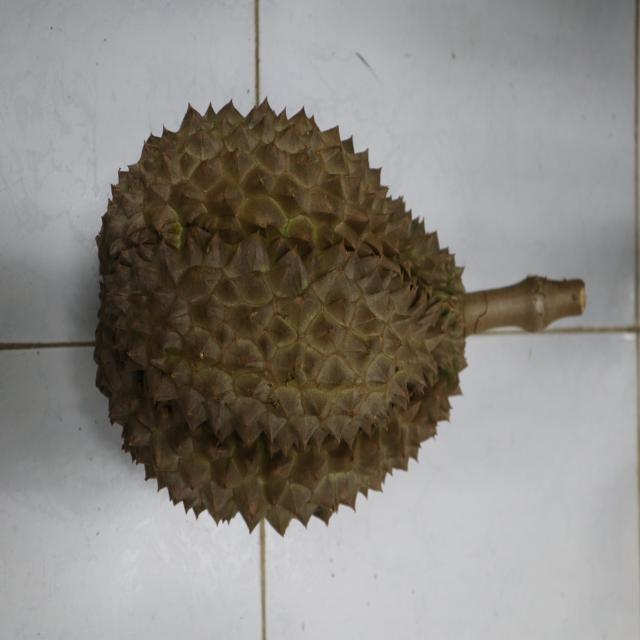mature: (94, 98, 469, 547)
